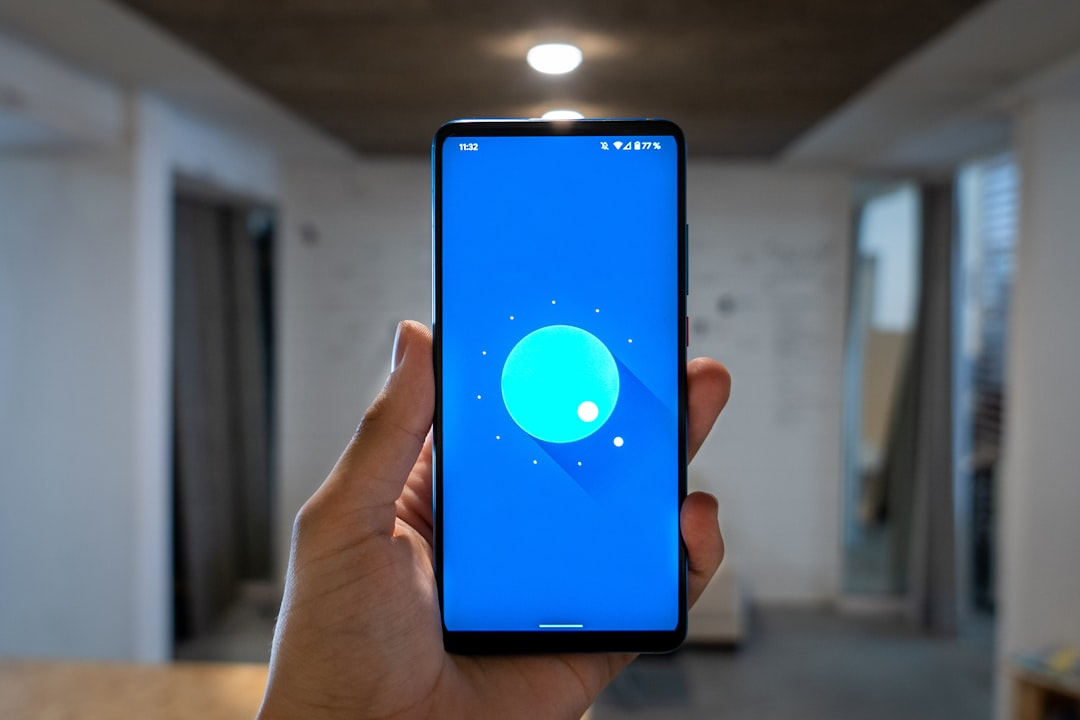phone: (426, 114, 690, 662)
